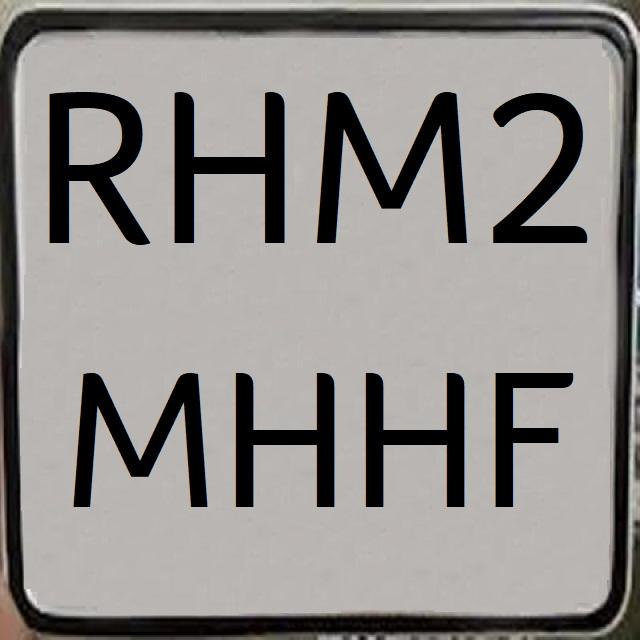2: (488, 74, 604, 268)
F: (490, 344, 576, 511)
H: (176, 72, 294, 257), (362, 355, 471, 521), (235, 358, 342, 517)
M: (316, 75, 474, 252), (73, 362, 213, 513)
R: (35, 78, 154, 259)
